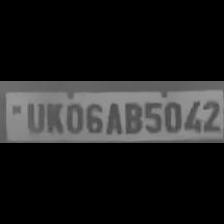0: (62, 100, 84, 134), (162, 99, 182, 133)
2: (199, 97, 219, 132)
4: (182, 97, 202, 132)
5: (142, 99, 162, 134)
6: (84, 100, 104, 134)
A: (102, 99, 120, 135)
B: (121, 99, 141, 135)
K: (43, 99, 62, 135)
U: (22, 100, 44, 134)
